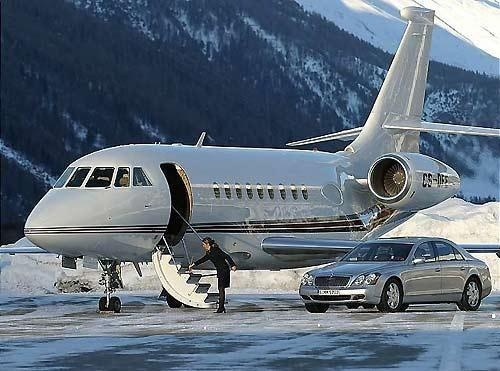airplane: (21, 8, 485, 308)
